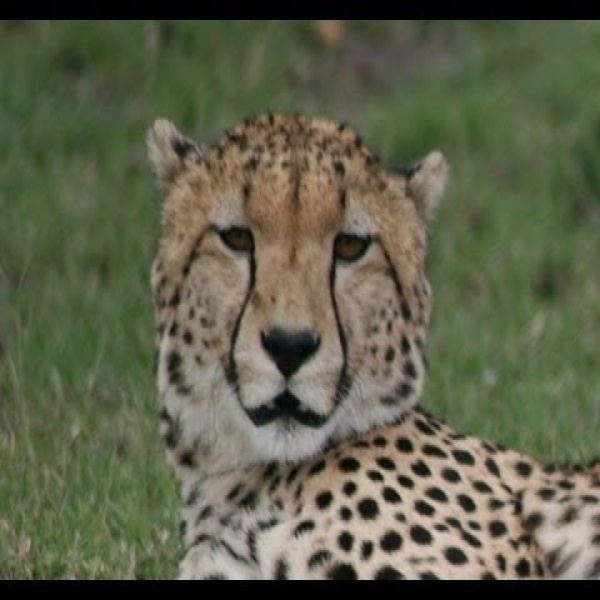Cheetah: (140, 109, 600, 578)
